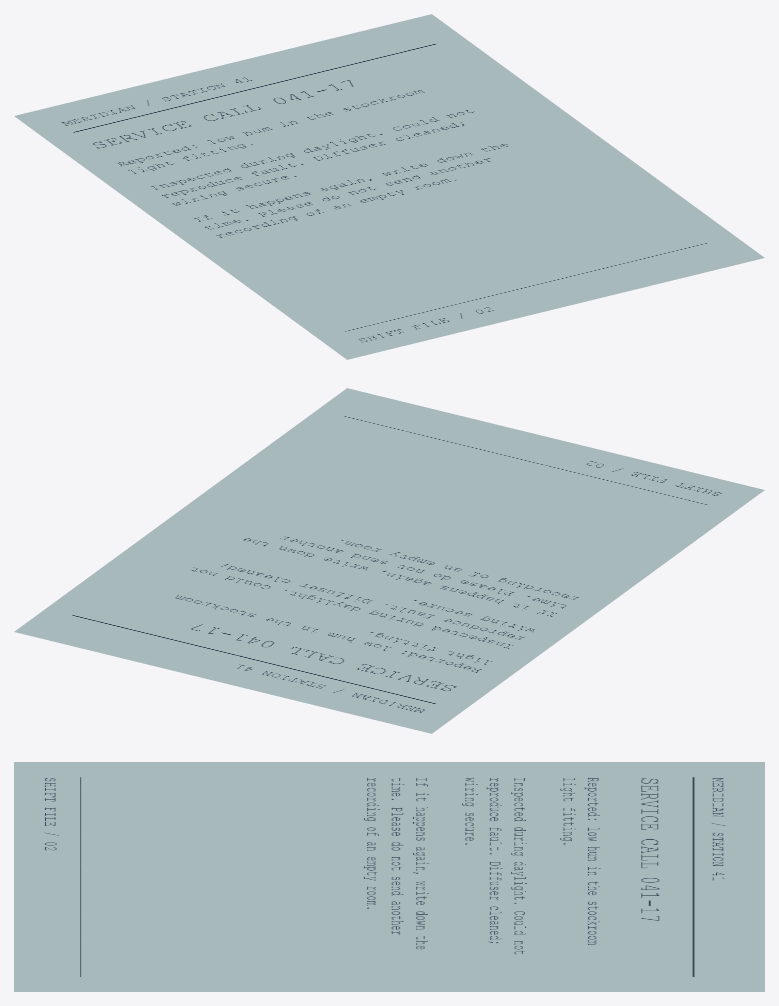
Rendered from letter_service.glb.
3 renders of one model, top to bottom at view 1: azimuth 30°, elevation 25°; view 2: azimuth 150°, elevation 25°; view 3: azimuth 270°, elevation 25°, orthographic. The views are drawn at different scales.
Visible parts, largest first — view 1: letter_service; view 2: letter_service; view 3: letter_service.
Boxes of the visible parts, x1,y1,x2,y2 form: letter_service: [14, 14, 764, 359]; letter_service: [14, 388, 764, 733]; letter_service: [14, 762, 764, 991].
Bounding box in the file's own units: 0.21 × 0 × 0.29.
Materials: 1 (1 with a texture image).
